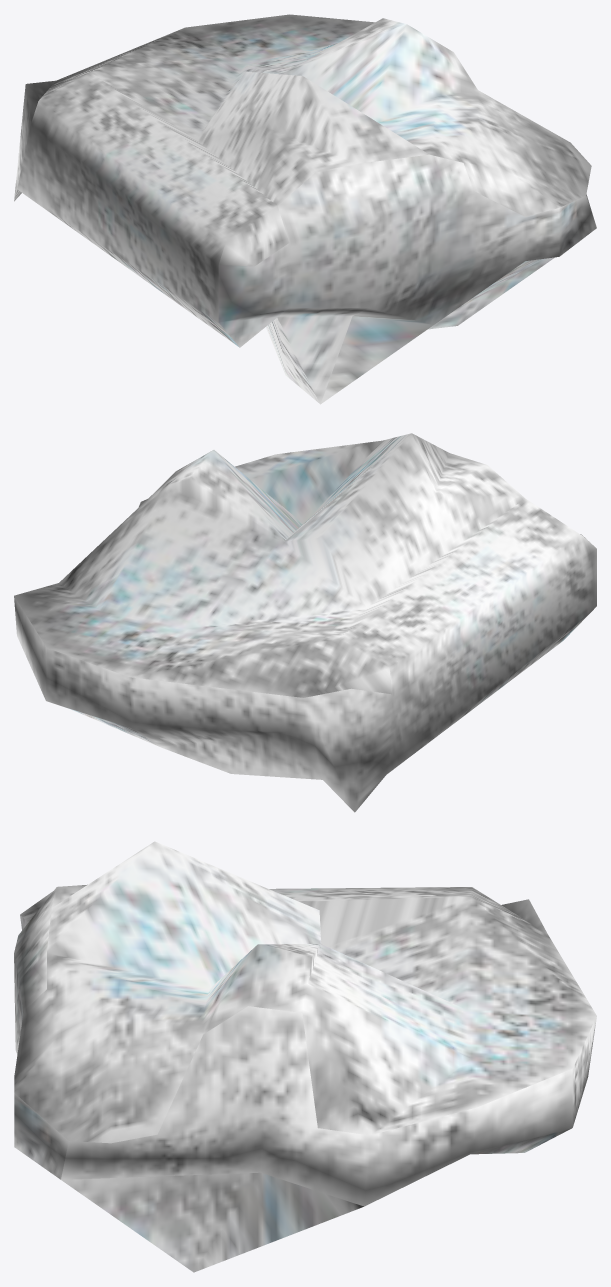
File: SmallIce_G.fbx
The picture shows the model from 3 angles, top to bottom: view 1: azimuth 30°, elevation 25°; view 2: azimuth 150°, elevation 25°; view 3: azimuth 270°, elevation 25°; orthographic projection. The views are drawn at different scales.
Visible parts, largest first — view 1: pCube1; view 2: pCube1; view 3: pCube1.
Part boxes in pixels (x1,y1,x2,y2): pCube1: [14, 14, 596, 404]; pCube1: [14, 433, 596, 812]; pCube1: [14, 841, 596, 1272].
Bounding box in the file's own units: 1.47 × 1.11 × 1.65.
1 material, 1 textured.
